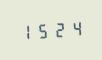five: (34, 21, 49, 40)
four: (66, 18, 81, 37)
one: (18, 22, 33, 41)
two: (50, 20, 65, 38)
